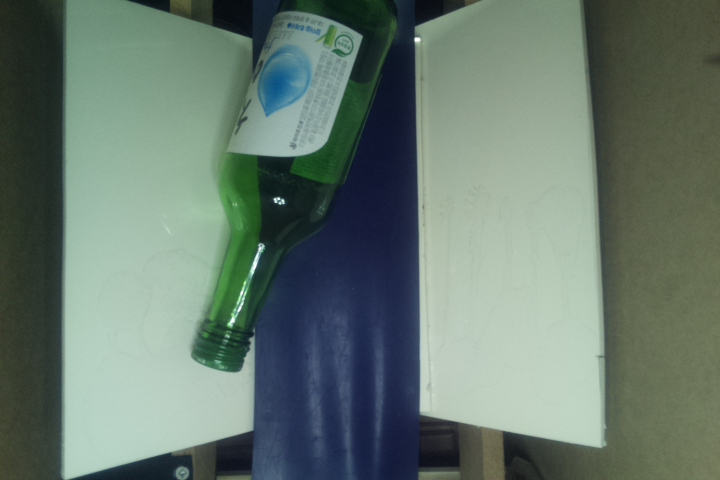soju: (188, 1, 407, 373)
